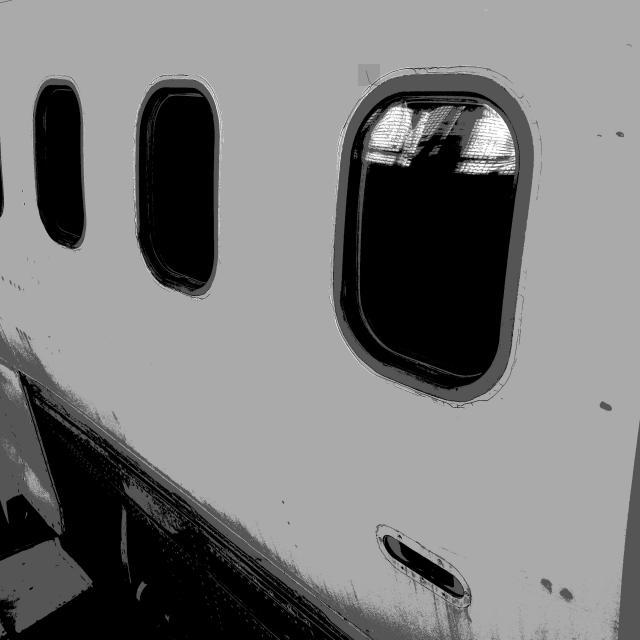crack: (359, 65, 381, 87)
